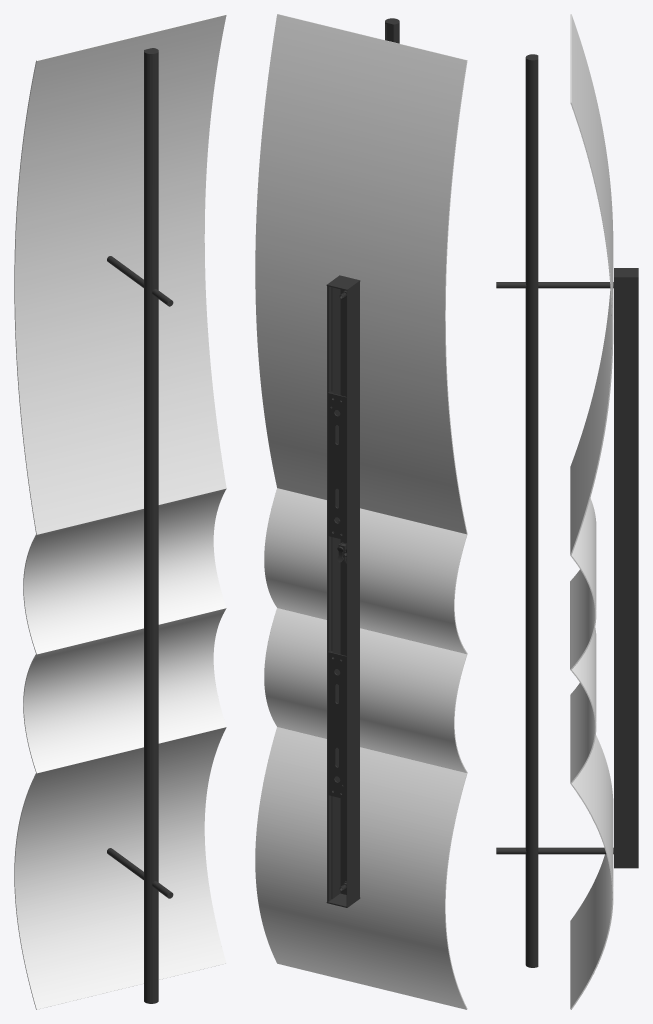
3 views of the same model, side by side, from view 1: azimuth 30°, elevation 25°; view 2: azimuth 150°, elevation 25°; view 3: azimuth 270°, elevation 25° (orthographic). The views are drawn at different scales.
Parts seen in each view (by area): view 1: Geom3D, Geom3D_<ALCP02564395_<ALCP02518947; view 2: Geom3D, Geom3D_<ALCP025400022_<ALCP025630128, Geom3D_Espelhar389745_Espelhar915711 (×2); view 3: Geom3D, Geom3D_<ALCP025400022_<ALCP025630128, Geom3D_<ALCP02564395_<ALCP02518947, Geom3D_Corte-ex878445_Corte-ex461193 (×2).
Boxes of the visible parts, x1,y1,x2,y2 form: Geom3D: [14, 14, 226, 1009]; Geom3D_<ALCP02564395_<ALCP02518947: [144, 53, 158, 1002]; Geom3D: [255, 14, 467, 1009]; Geom3D_<ALCP025400022_<ALCP025630128: [327, 282, 359, 906]; Geom3D_Espelhar389745_Espelhar915711 (×2): [328, 392, 346, 799]; Geom3D: [570, 14, 613, 1009]; Geom3D_<ALCP025400022_<ALCP025630128: [614, 278, 638, 867]; Geom3D_<ALCP02564395_<ALCP02518947: [525, 59, 538, 966]; Geom3D_Corte-ex878445_Corte-ex461193 (×2): [538, 282, 613, 854].
Bounding box in the file's own units: 0.25 × 1.2 × 0.1697.
2 materials, 2 textured.
